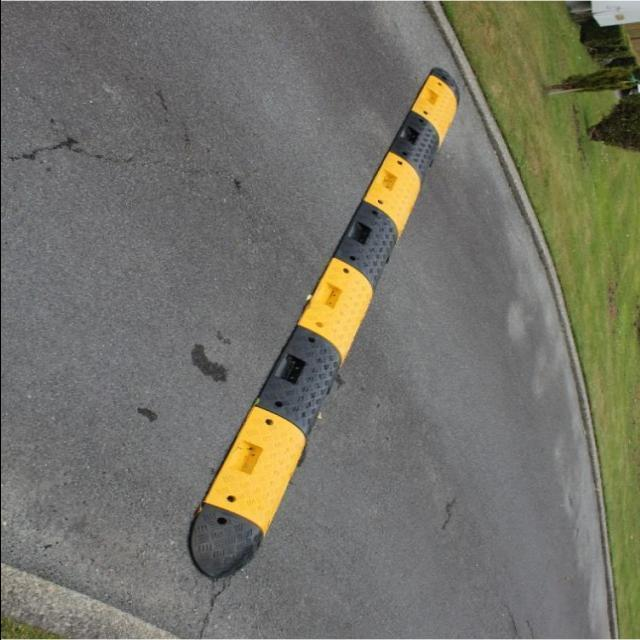speedbreaker: (152, 58, 478, 596)
